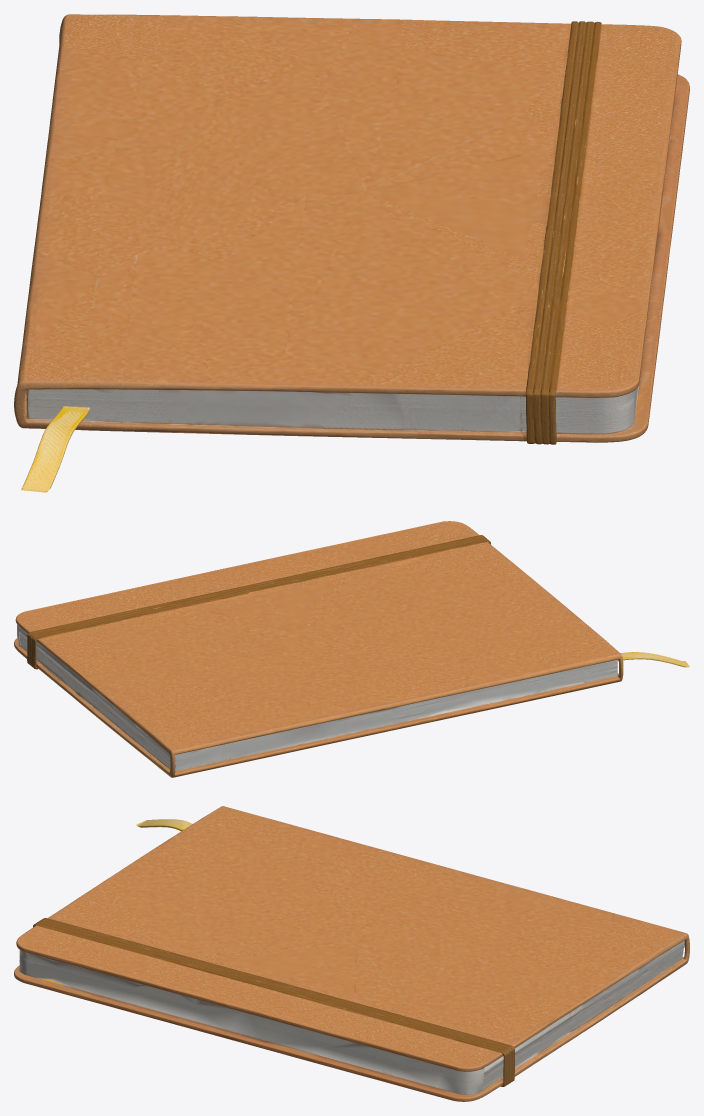
The model's file is notebook.glb.
3 views of the same model, one above another, from view 1: azimuth 30°, elevation 25°; view 2: azimuth 150°, elevation 25°; view 3: azimuth 270°, elevation 25° (orthographic). The views are drawn at different scales.
Visible parts, largest first — view 1: NOTEBOOK_BODY; view 2: NOTEBOOK_BODY; view 3: NOTEBOOK_BODY.
Part boxes in pixels (box(x1,y1,x2,y2)): NOTEBOOK_BODY: box(14, 14, 689, 492); NOTEBOOK_BODY: box(14, 521, 689, 777); NOTEBOOK_BODY: box(14, 806, 689, 1101).
Bounding box in the file's own units: 0.2503 × 0.0145 × 0.2518.
2 materials, 1 textured.
